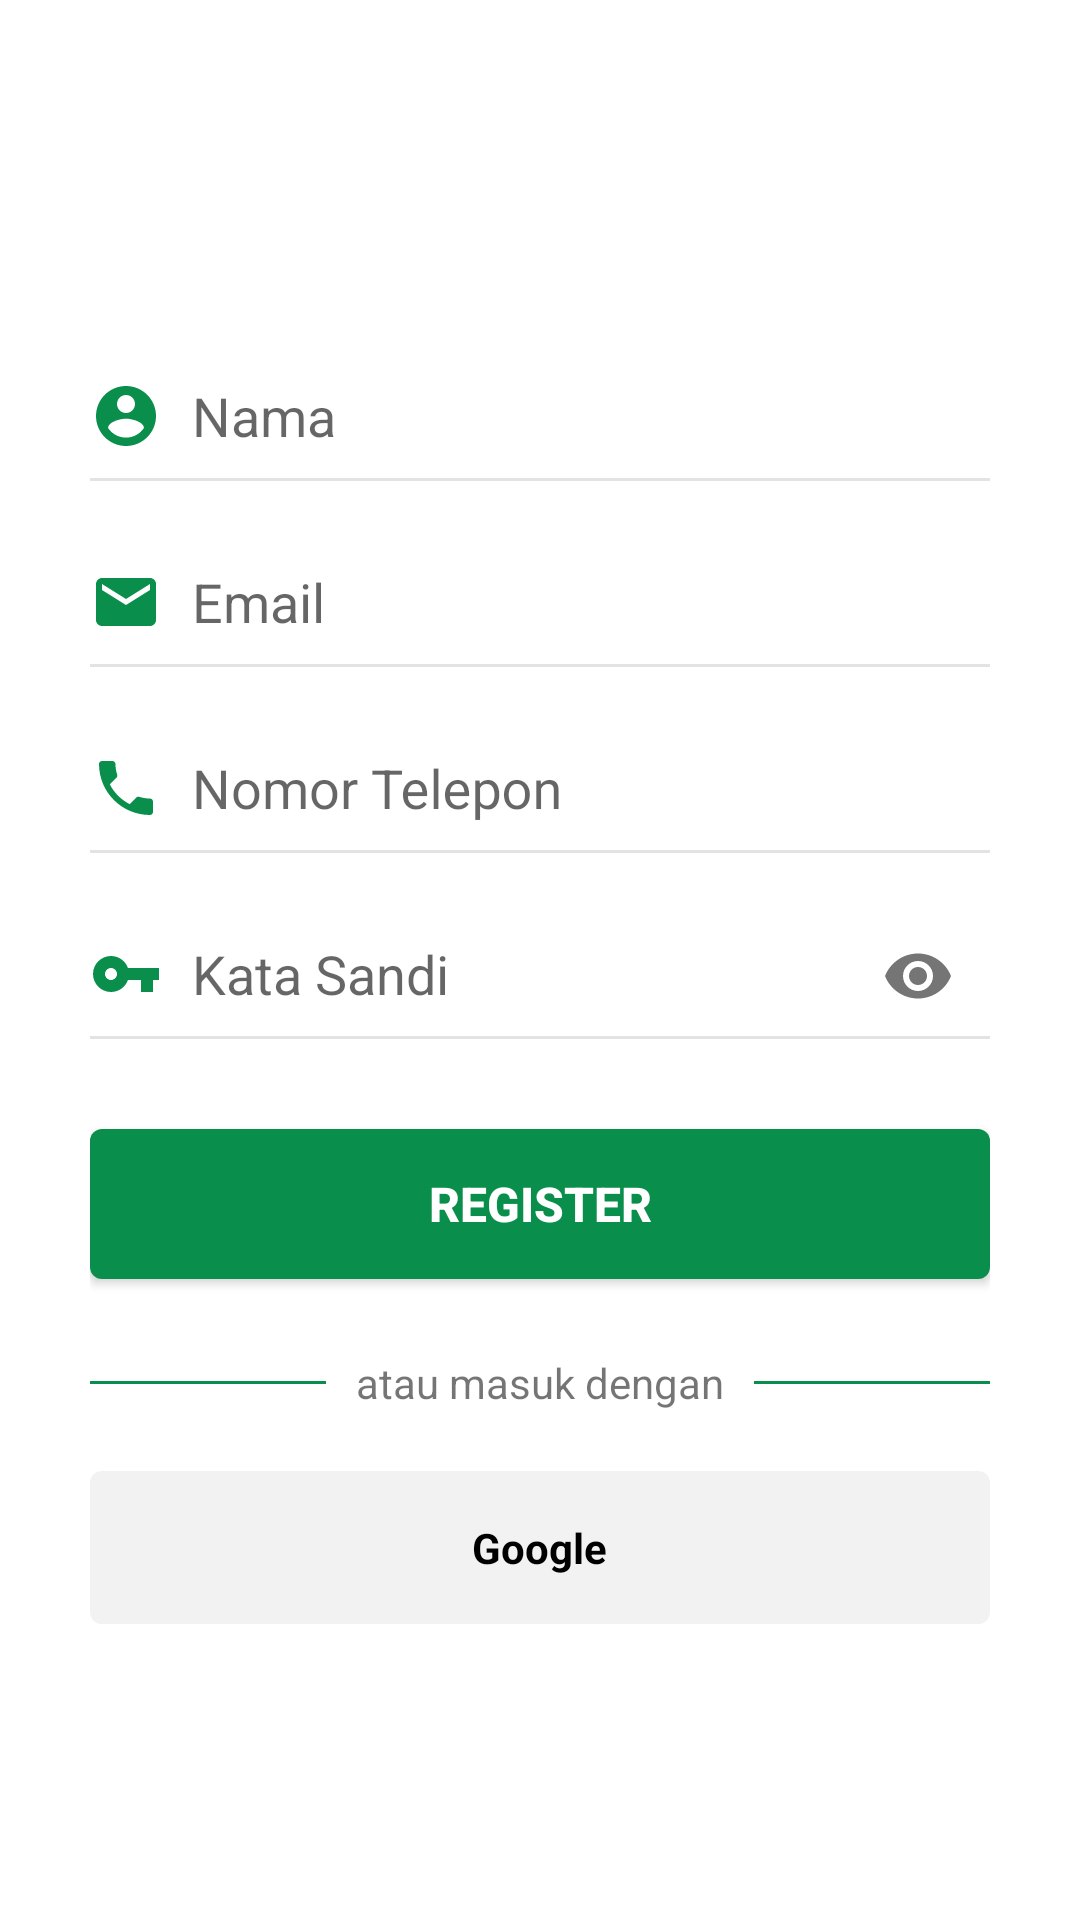

Locate icon controls on the screen. Image size 1080px×1920px, boxes as (x1, y1, x2, y2).
account circle hijau: (96, 386, 156, 446)
phone: (99, 761, 153, 815)
vpn key: (93, 956, 159, 992)
